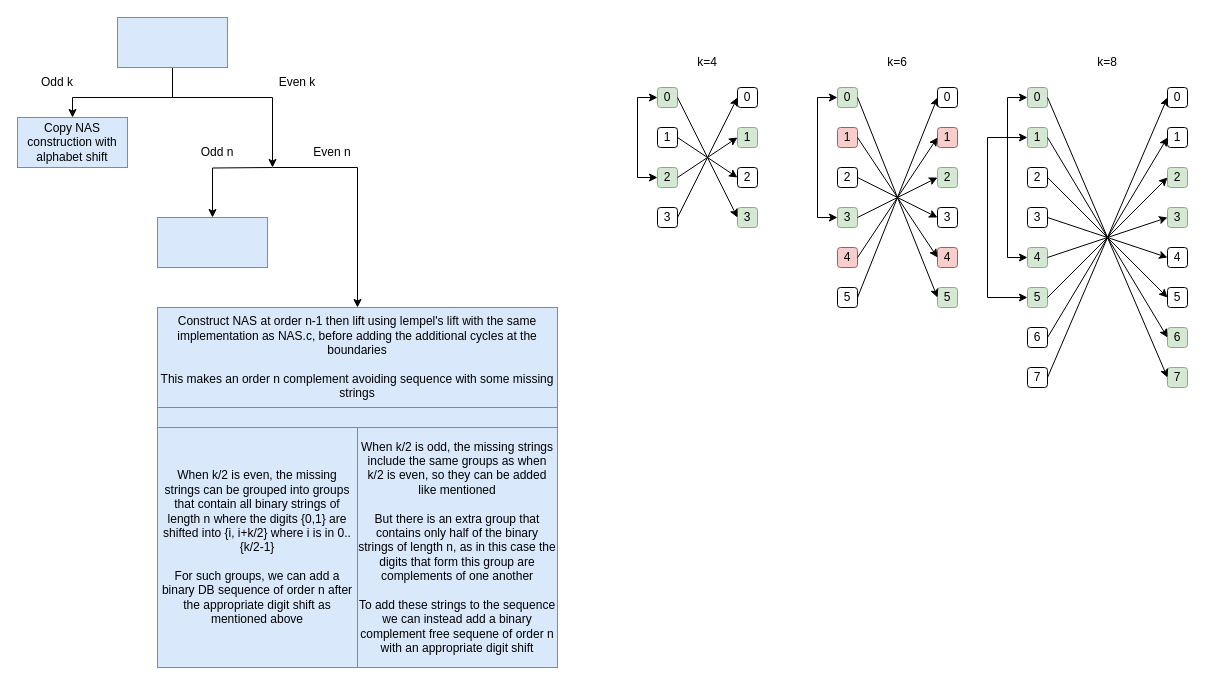
Some shapes in this 1205 by 685 pixel diagram are drawn without their labels. Here are the shapes that lost their labels. From the top down, the centre of each, then its label:
At point 172,42: "CAS Construction".
At point 212,242: "FKM with weight>n(k-1)/2".
At point 357,417: "The missing strings can be added in the following ways:".
